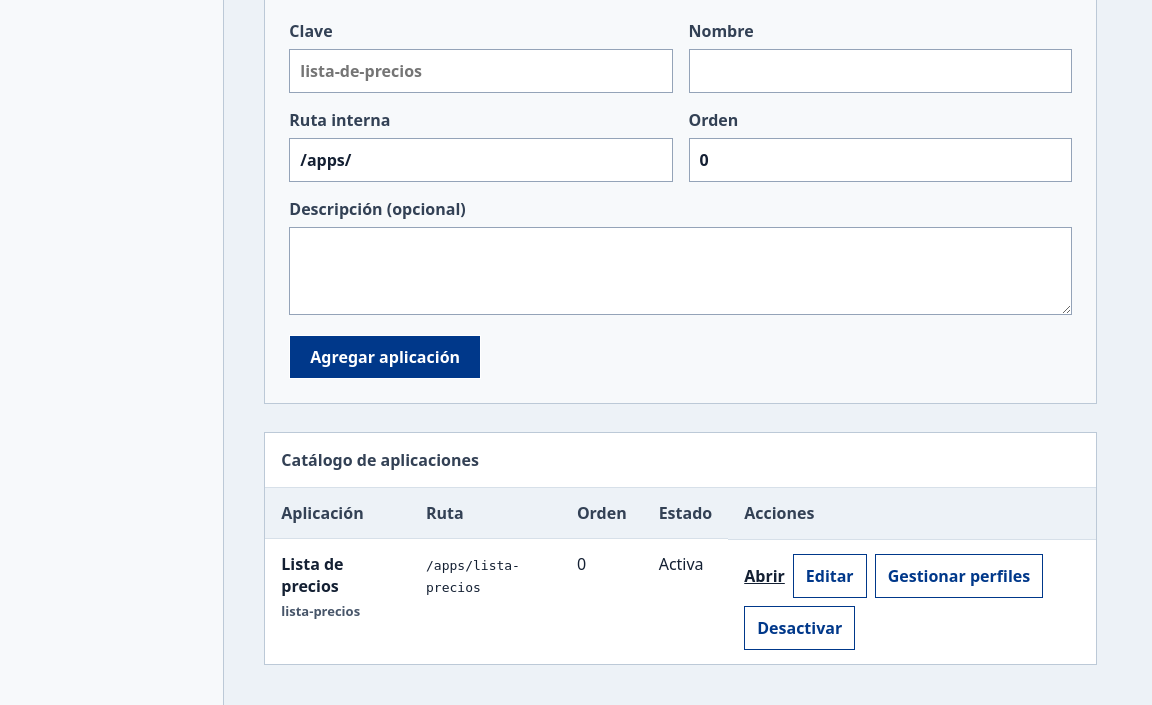
App › recupera la carga de perfiles sin conservar un estado de carga tras el error
(page scrolled)
Click the button "Gestionar perfiles" at coordinates (959, 576), box [875,554,1043,598]
(page scrolled)
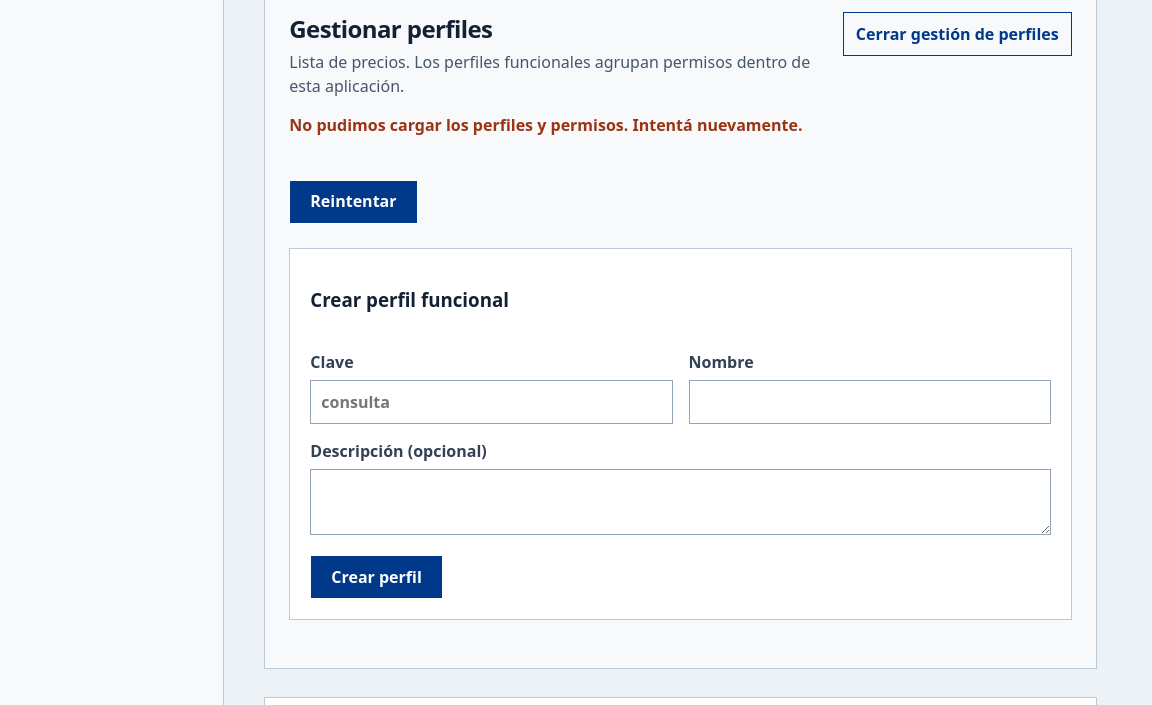
Expected: the message shows "No pudimos cargar los perfiles", [289,114,802,136]
Click the button "Reintentar" at coordinates (353, 202), box [289,180,418,224]
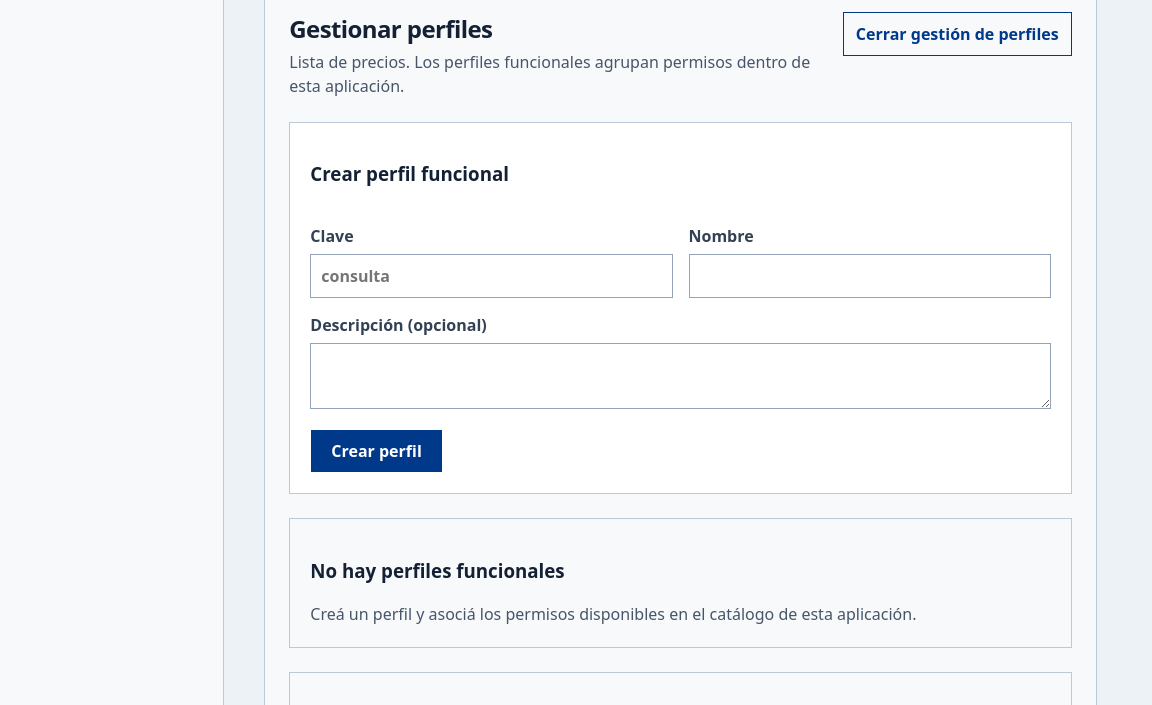
Expected: the heading "No hay perfiles funcionales" is shown, [310,558,565,583]
